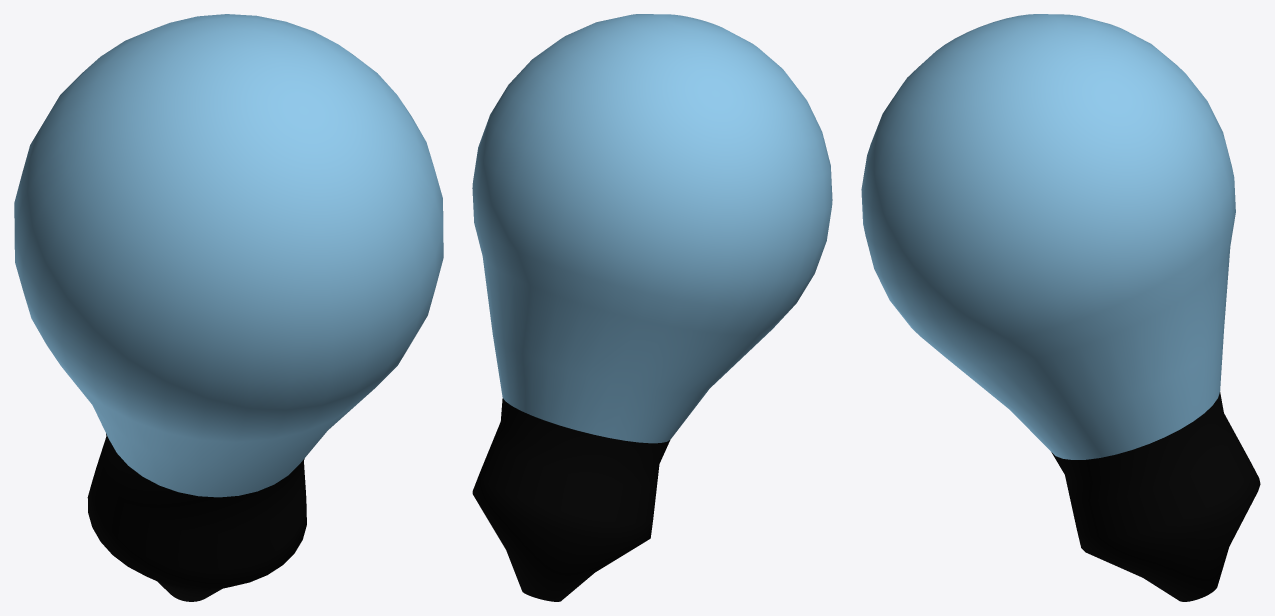
File: bulb.glb
3 views of the same model, side by side, from view 1: azimuth 30°, elevation 25°; view 2: azimuth 150°, elevation 25°; view 3: azimuth 270°, elevation 25° (orthographic). The views are drawn at different scales.
Visible parts, largest first — view 1: Sphere.002; view 2: Sphere.002; view 3: Sphere.002.
Part boxes in pixels (left/top/right/bottom): Sphere.002: left=14, top=14, right=443, bottom=601; Sphere.002: left=472, top=14, right=832, bottom=601; Sphere.002: left=861, top=14, right=1260, bottom=601.
Bounding box in the file's own units: 0.2442 × 0.3953 × 0.2608.
